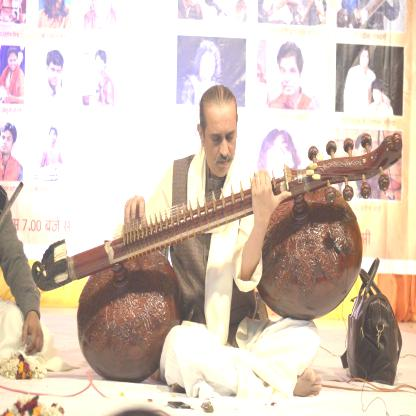Veena: (8, 134, 410, 301)
